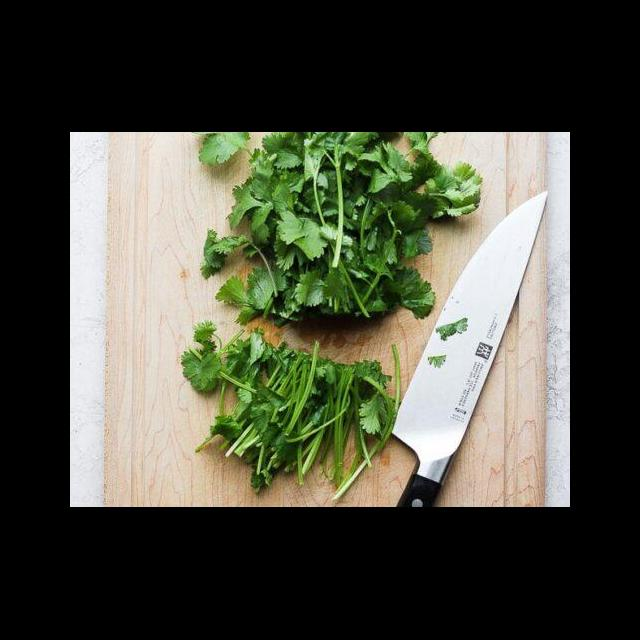cilantro: (189, 132, 482, 328), (180, 320, 402, 500)
